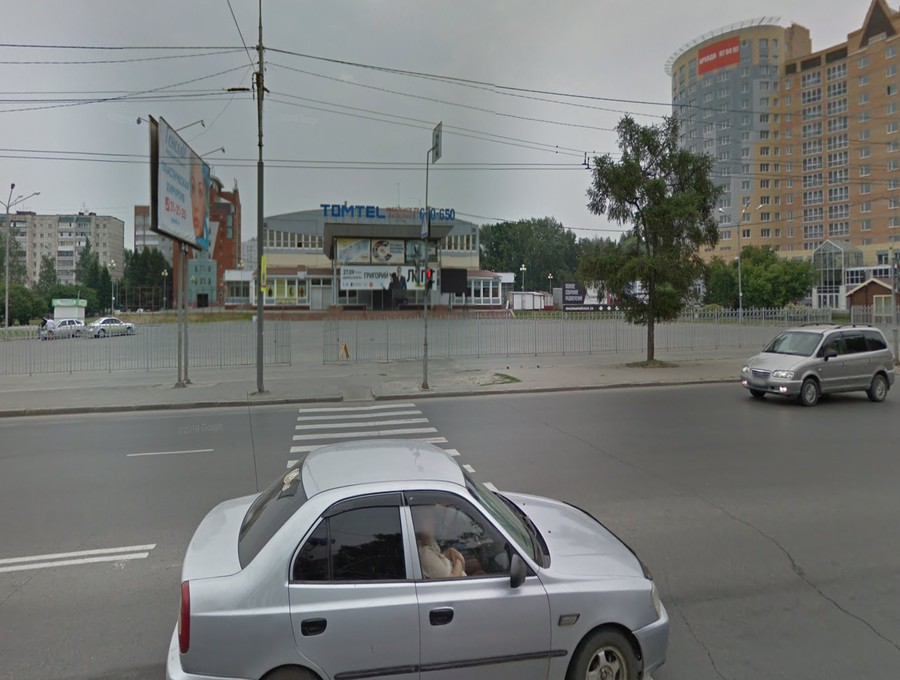Traffic Light-red: (425, 263, 436, 294)
